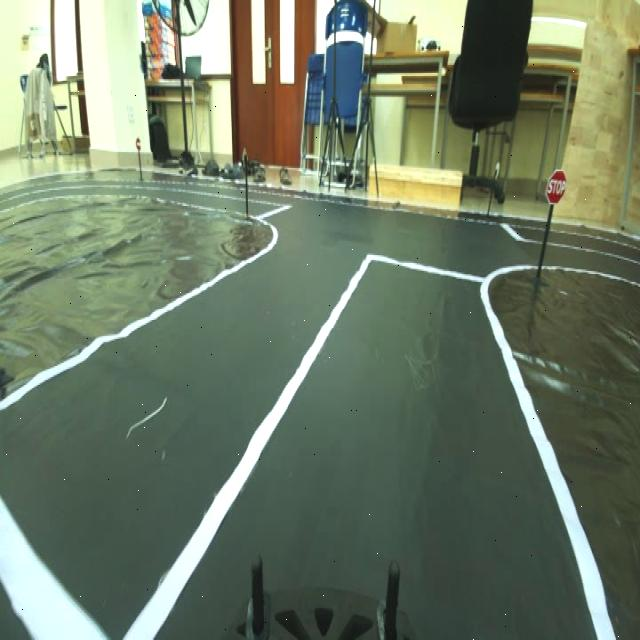stop: (542, 163, 570, 209)
